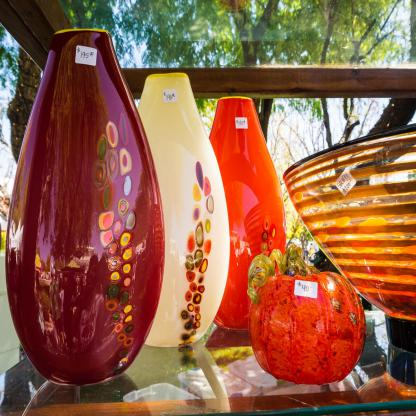vase: (2, 27, 165, 387), (134, 69, 232, 346), (208, 94, 286, 329)
